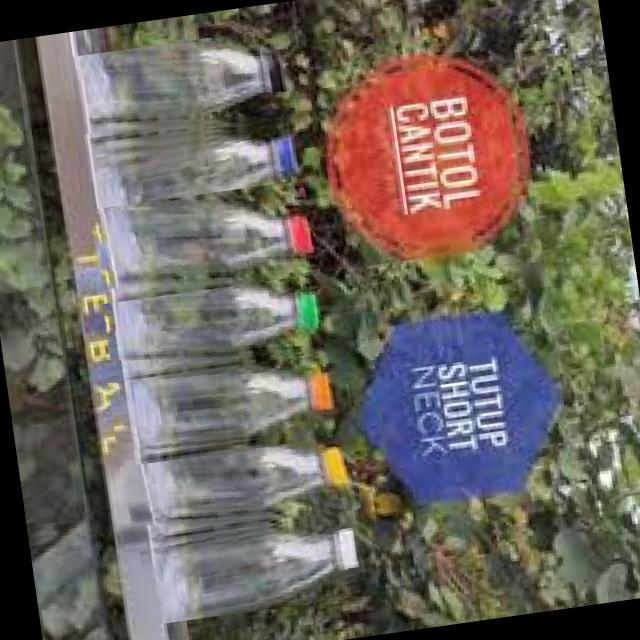plastic bottle: (68, 25, 314, 156), (87, 180, 320, 314), (136, 508, 378, 626), (116, 435, 362, 548), (102, 272, 340, 384), (83, 115, 314, 226), (106, 352, 339, 462)
